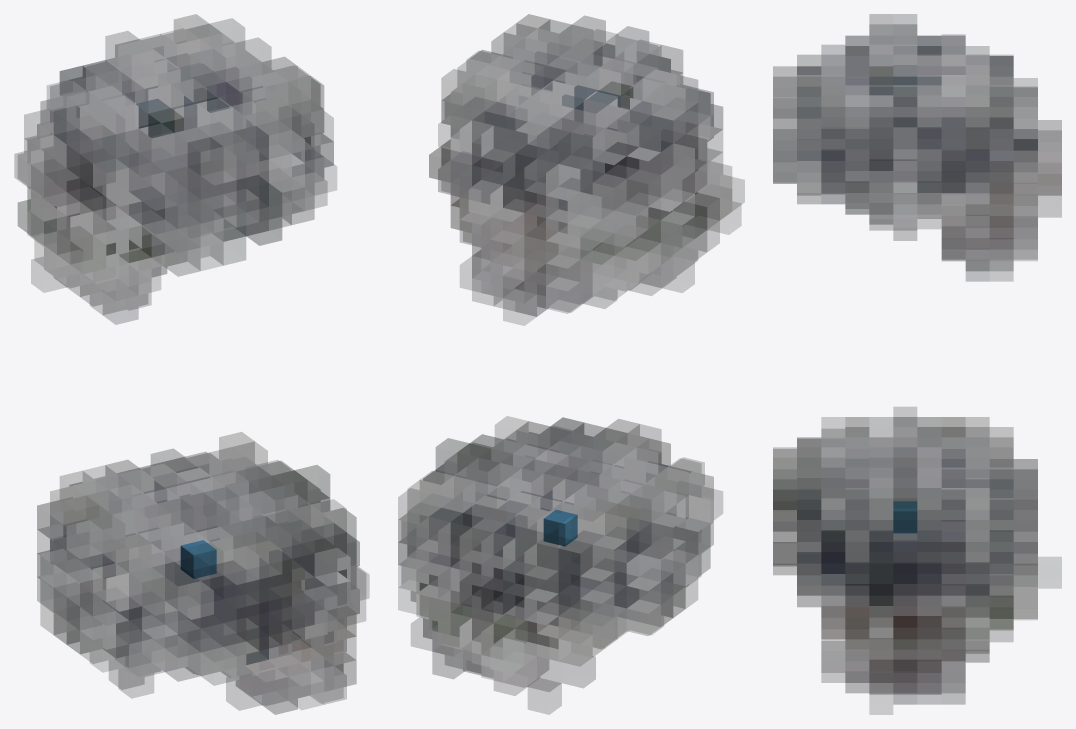
Rendered from iter_15.obj.
3 renders of one model, left to right at view 1: azimuth 30°, elevation 25°; view 2: azimuth 150°, elevation 25°; view 3: azimuth 270°, elevation 25°, orthographic. The views are drawn at different scales.
Visible parts, largest first — view 1: iter_15; view 2: iter_15; view 3: iter_15.
Part boxes in pixels (x1,y1,x2,y2): iter_15: (14,14,368,714); iter_15: (398,14,744,714); iter_15: (773,14,1061,714).
Bounding box in the file's own units: 1.4 × 2.7 × 1.2.
